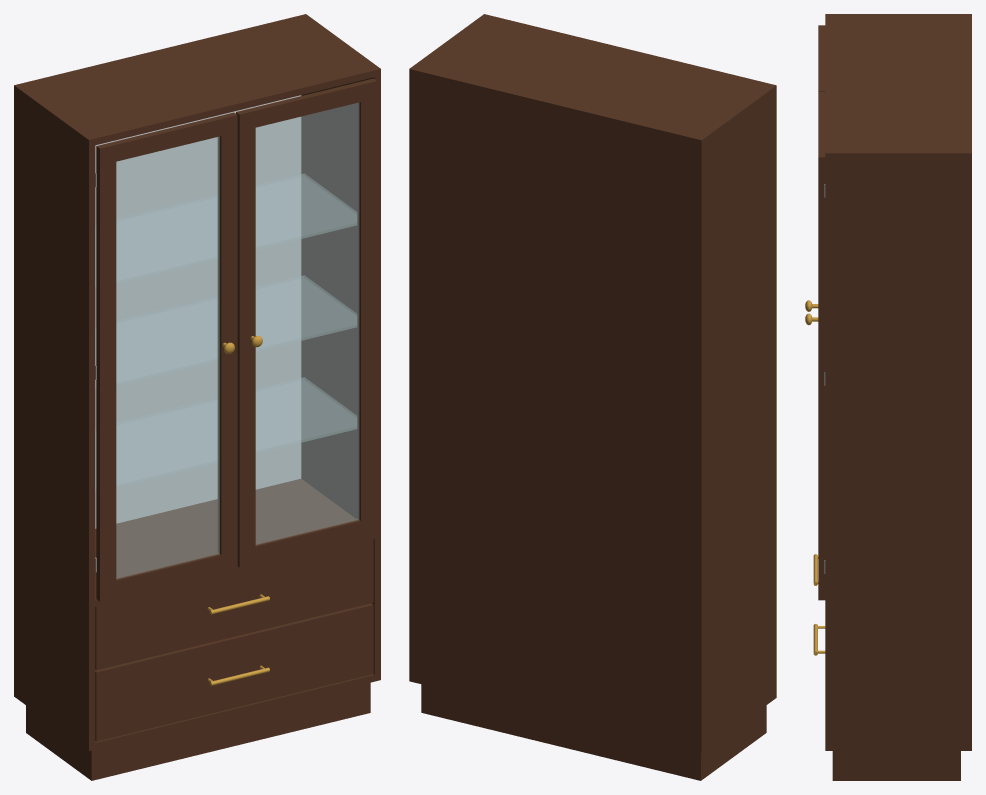
The model's file is 015_glass_display_cabinet.glb.
3 views of the same model, side by side, from view 1: azimuth 30°, elevation 25°; view 2: azimuth 150°, elevation 25°; view 3: azimuth 270°, elevation 25° (orthographic). The views are drawn at different scales.
Visible parts, largest first — view 1: 029_mirror_back, 000_carcass_side_l, 044_door_glass_panel, 034_door_glass_panel, 001_carcass_side_r, 002_carcass_top, 007_drawer_1_front, 016_drawer_2_front, 025_glass_shelf_1, 027_glass_shelf_3, 026_glass_shelf_2, 006_mid_divider_shelf (+10 smaller); view 2: 004_carcass_back_panel, 000_carcass_side_l, 002_carcass_top, 005_plinth, 001_carcass_side_r; view 3: 001_carcass_side_r, 002_carcass_top, 005_plinth, 041_door_stile_r, 000_carcass_side_l, 042_door_top_rail, 032_door_top_rail.
Part boxes in pixels (x1=…): 029_mirror_back: x1=95, y1=95, x2=301, y2=528; 000_carcass_side_l: x1=14, y1=84, x2=95, y2=751; 044_door_glass_panel: x1=255, y1=103, x2=359, y2=544; 034_door_glass_panel: x1=116, y1=137, x2=219, y2=578; 001_carcass_side_r: x1=300, y1=14, x2=380, y2=681; 002_carcass_top: x1=14, y1=14, x2=380, y2=146; 007_drawer_1_front: x1=95, y1=603, x2=373, y2=741; 016_drawer_2_front: x1=95, y1=536, x2=373, y2=670; 025_glass_shelf_1: x1=95, y1=377, x2=356, y2=492; 027_glass_shelf_3: x1=95, y1=174, x2=356, y2=288; 026_glass_shelf_2: x1=95, y1=275, x2=356, y2=390; 006_mid_divider_shelf: x1=95, y1=479, x2=374, y2=606; 004_carcass_back_panel: x1=415, y1=77, x2=695, y2=750; 000_carcass_side_l: x1=695, y1=84, x2=776, y2=752; 002_carcass_top: x1=409, y1=14, x2=776, y2=146; 005_plinth: x1=421, y1=684, x2=766, y2=780; 001_carcass_side_r: x1=409, y1=14, x2=490, y2=682; 001_carcass_side_r: x1=825, y1=150, x2=971, y2=750; 002_carcass_top: x1=825, y1=17, x2=971, y2=159; 005_plinth: x1=832, y1=751, x2=960, y2=780; 041_door_stile_r: x1=818, y1=149, x2=825, y2=600; 000_carcass_side_l: x1=825, y1=14, x2=971, y2=16; 042_door_top_rail: x1=818, y1=99, x2=825, y2=149; 032_door_top_rail: x1=818, y1=33, x2=825, y2=82.
Size of the model in its own units: 0.9 by 1.9 by 0.455.
